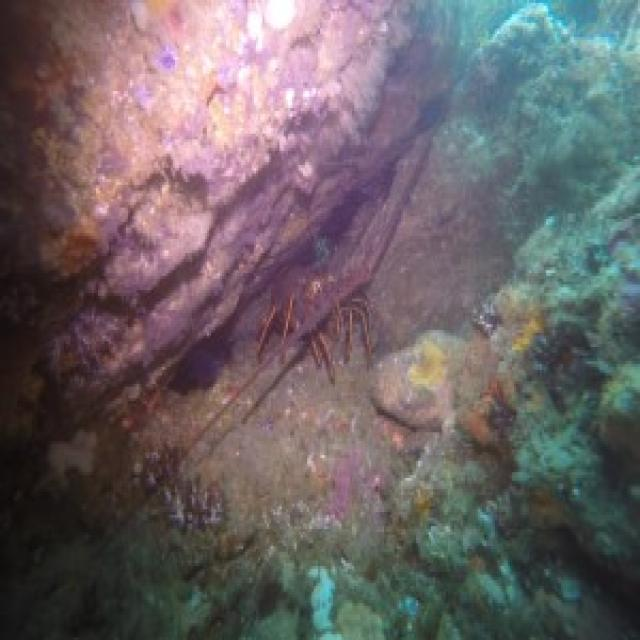lobsters: (194, 134, 474, 455)
